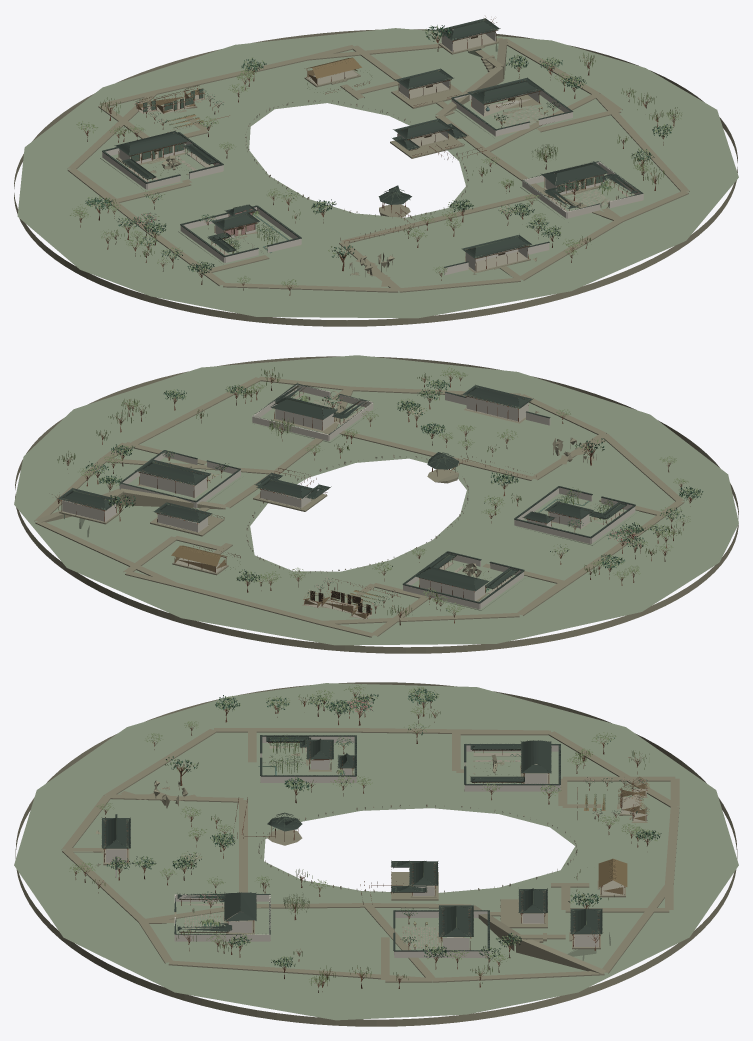
The model's file is public_models_overview-low.glb.
3 renders of one model, top to bottom at view 1: azimuth 30°, elevation 25°; view 2: azimuth 150°, elevation 25°; view 3: azimuth 270°, elevation 25°, orthographic. The views are drawn at different scales.
Parts seen in each view (by area): view 1: Mobile_landscape, Mobile_hengwuyuan, Mobile_xiaoxiangguan, Mobile_yihongyuan, Mobile_qiushuangzhai, Mobile_daguanyuan_gate, Mobile_ouxiangxie, Mobile_tubishanzhuang, Mobile_aojingxiguan, Mobile_daoxiangcun, Mobile_luxuean, Mobile_qujingtongyou (+1 smaller); view 2: Mobile_landscape, Mobile_xiaoxiangguan, Mobile_hengwuyuan, Mobile_yihongyuan, Mobile_qiushuangzhai, Mobile_daguanyuan_gate, Mobile_tubishanzhuang, Mobile_ouxiangxie, Mobile_aojingxiguan, Mobile_daoxiangcun, Mobile_luxuean, Mobile_dicuiting (+1 smaller); view 3: Mobile_landscape, Mobile_hengwuyuan, Mobile_xiaoxiangguan, Mobile_yihongyuan, Mobile_qiushuangzhai, Mobile_tubishanzhuang, Mobile_ouxiangxie, Mobile_aojingxiguan, Mobile_daguanyuan_gate, Mobile_daoxiangcun, Mobile_luxuean, Mobile_dicuiting (+1 smaller).
Part boxes in pixels (box(x1,y1,x2,y2)): Mobile_landscape: box(14, 28, 738, 326); Mobile_hengwuyuan: box(100, 130, 231, 191); Mobile_xiaoxiangguan: box(178, 204, 309, 264); Mobile_yihongyuan: box(520, 161, 650, 223); Mobile_qiushuangzhai: box(451, 77, 575, 140); Mobile_daguanyuan_gate: box(444, 234, 549, 278); Mobile_ouxiangxie: box(390, 118, 468, 159); Mobile_tubishanzhuang: box(424, 16, 500, 71); Mobile_aojingxiguan: box(391, 68, 462, 110); Mobile_daoxiangcun: box(134, 85, 229, 132); Mobile_luxuean: box(304, 57, 371, 99); Mobile_qujingtongyou: box(328, 245, 394, 286); Mobile_landscape: box(14, 355, 738, 653); Mobile_xiaoxiangguan: box(512, 486, 638, 545); Mobile_hengwuyuan: box(402, 551, 527, 610); Mobile_yihongyuan: box(250, 382, 380, 442); Mobile_qiushuangzhai: box(119, 450, 247, 509); Mobile_daguanyuan_gate: box(445, 384, 550, 425); Mobile_tubishanzhuang: box(52, 488, 135, 524); Mobile_ouxiangxie: box(253, 472, 331, 511); Mobile_aojingxiguan: box(150, 502, 224, 536); Mobile_daoxiangcun: box(302, 578, 400, 619); Mobile_luxuean: box(171, 543, 240, 575); Mobile_dicuiting: box(427, 452, 468, 483); Mobile_landscape: box(14, 682, 738, 1026); Mobile_hengwuyuan: box(452, 740, 561, 793); Mobile_xiaoxiangguan: box(248, 735, 357, 784); Mobile_yihongyuan: box(162, 891, 271, 942); Mobile_qiushuangzhai: box(381, 905, 490, 959); Mobile_tubishanzhuang: box(527, 891, 602, 950); Mobile_ouxiangxie: box(364, 860, 438, 900); Mobile_aojingxiguan: box(490, 888, 547, 928); Mobile_daguanyuan_gate: box(69, 814, 130, 877); Mobile_daoxiangcun: box(562, 777, 649, 822); Mobile_luxuean: box(551, 858, 627, 899); Mobile_dicuiting: box(237, 812, 302, 845).
Bounding box in the file's own units: 271 × 21.57 × 245.
